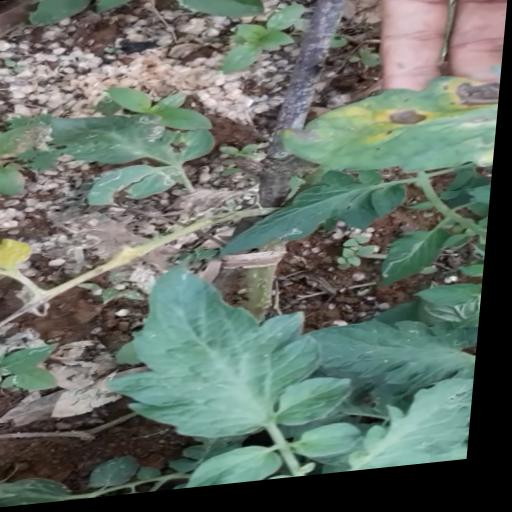Leaf_Miner: (224, 171, 413, 266), (49, 102, 223, 175), (90, 163, 188, 208), (387, 235, 456, 293)
